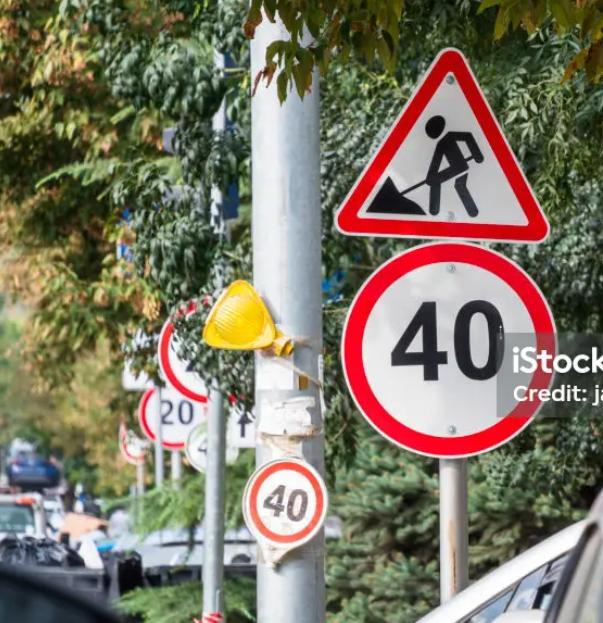obstructed_road_sign: (342, 241, 558, 461), (333, 44, 555, 242), (157, 297, 252, 406), (139, 381, 207, 450)
road_sign: (248, 461, 325, 542)
